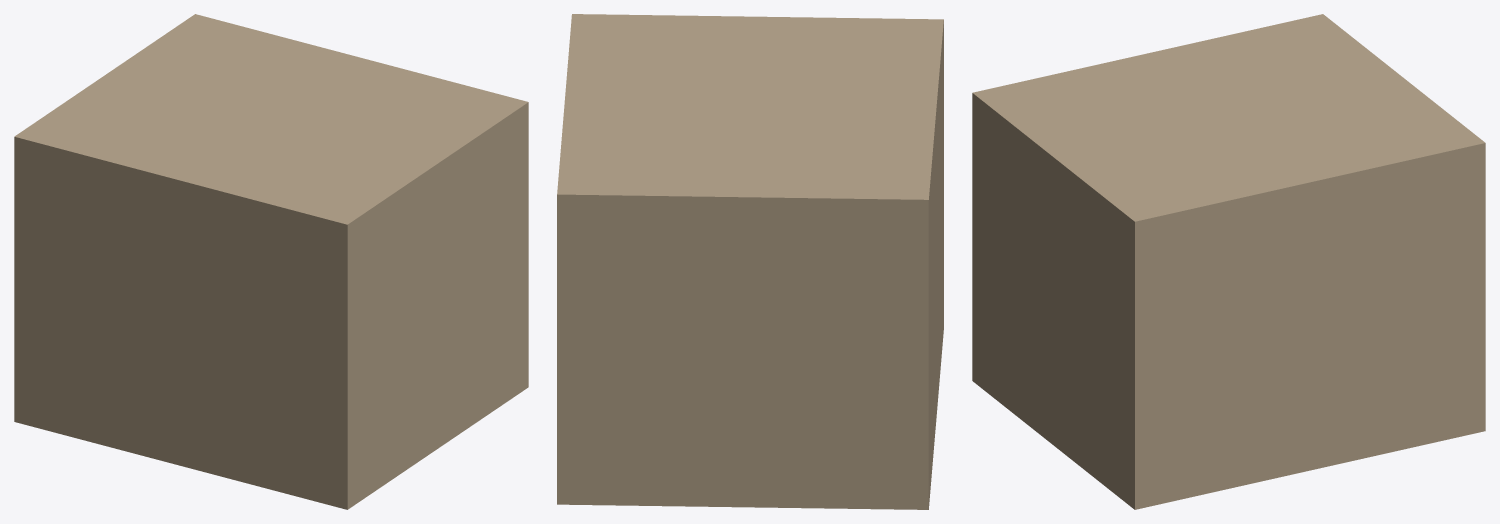
File: bld_109034735.dae
3 views of the same model, side by side, from view 1: azimuth 30°, elevation 25°; view 2: azimuth 150°, elevation 25°; view 3: azimuth 270°, elevation 25° (orthographic). The views are drawn at different scales.
Visible parts, largest first — view 1: bld_109034735; view 2: bld_109034735; view 3: bld_109034735.
Boxes of the visible parts, x1=… form: bld_109034735: x1=14, y1=14, x2=528, y2=509; bld_109034735: x1=557, y1=14, x2=943, y2=509; bld_109034735: x1=972, y1=14, x2=1485, y2=509.
Size of the model in its own units: 12.37 by 12.92 by 8.
